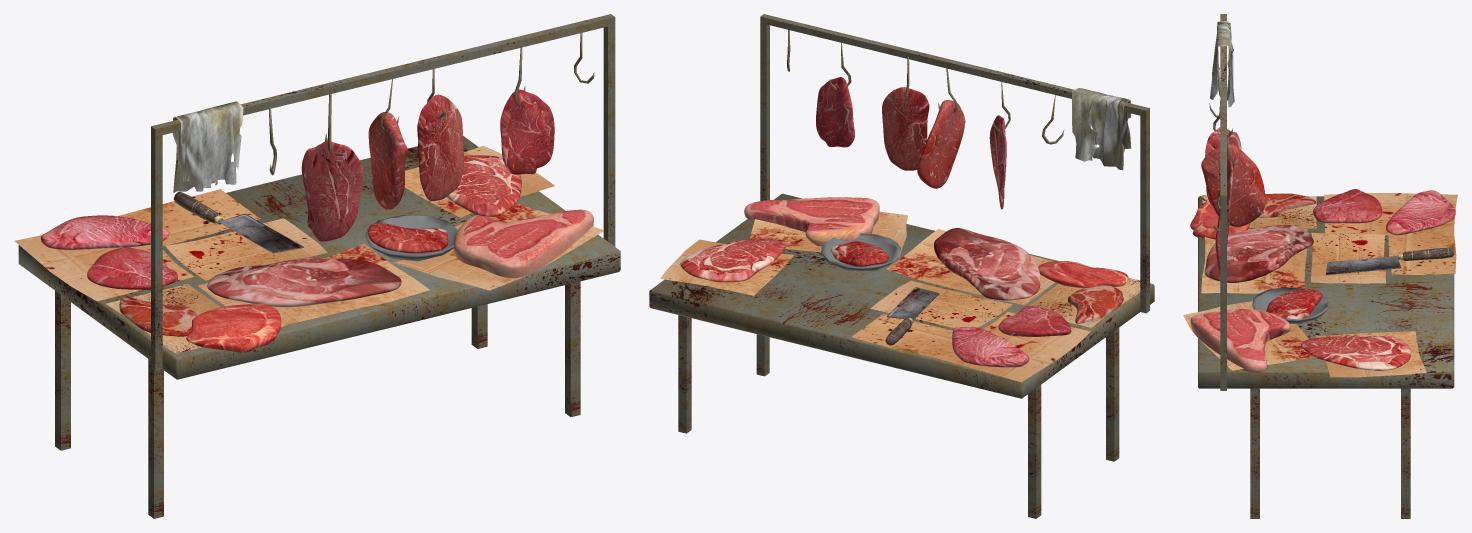
Rendered from ButchersTable.fbx.
3 renders of one model, left to right at view 1: azimuth 30°, elevation 25°; view 2: azimuth 150°, elevation 25°; view 3: azimuth 270°, elevation 25°, orthographic. The views are drawn at different scales.
Parts seen in each view (by area): view 1: table, meat6, meat7, meat5, meat3, meat2, meat10, meat9, meat1, meat4, meat12, chopper (+2 smaller); view 2: table, meat6, meat7, meat3, meat9, meat4, meat1, meat2, meat10, meat12, meat11, chopper (+2 smaller); view 3: table, meat6, meat7, meat4, meat9, meat1, meat12, chopper, meat8, meat10, meat11, meat5 (+1 smaller).
Part boxes in pixels (box(x1,y1,x2,y2)): table: box(14, 14, 620, 518); meat6: box(207, 257, 401, 307); meat7: box(453, 209, 593, 278); meat5: box(301, 141, 363, 241); meat3: box(417, 94, 463, 200); meat2: box(500, 89, 554, 174); meat10: box(186, 303, 281, 352); meat9: box(447, 155, 521, 216); meat1: box(41, 215, 169, 249); meat4: box(368, 112, 407, 209); meat12: box(87, 247, 178, 289); chopper: box(173, 192, 303, 253); table: box(649, 14, 1154, 518); meat6: box(934, 228, 1040, 300); meat7: box(744, 197, 879, 246); meat3: box(882, 87, 929, 170); meat9: box(680, 239, 785, 282); meat4: box(917, 100, 965, 188); meat1: box(952, 327, 1029, 367); meat2: box(816, 77, 854, 147); meat10: box(1038, 261, 1128, 288); meat12: box(998, 305, 1071, 336); meat11: box(1068, 285, 1123, 324); chopper: box(885, 287, 939, 345); table: box(1183, 14, 1457, 518); meat6: box(1204, 225, 1313, 282); meat7: box(1190, 308, 1290, 372); meat4: box(1201, 144, 1265, 226); meat9: box(1301, 335, 1410, 370); meat1: box(1386, 190, 1455, 235); meat12: box(1313, 189, 1382, 223); chopper: box(1325, 247, 1454, 274); meat8: box(1266, 288, 1322, 319); meat10: box(1190, 201, 1250, 239); meat11: box(1258, 193, 1316, 217); meat5: box(1205, 127, 1241, 205).
Size of the model in its own units: 551 by 464 by 346.
